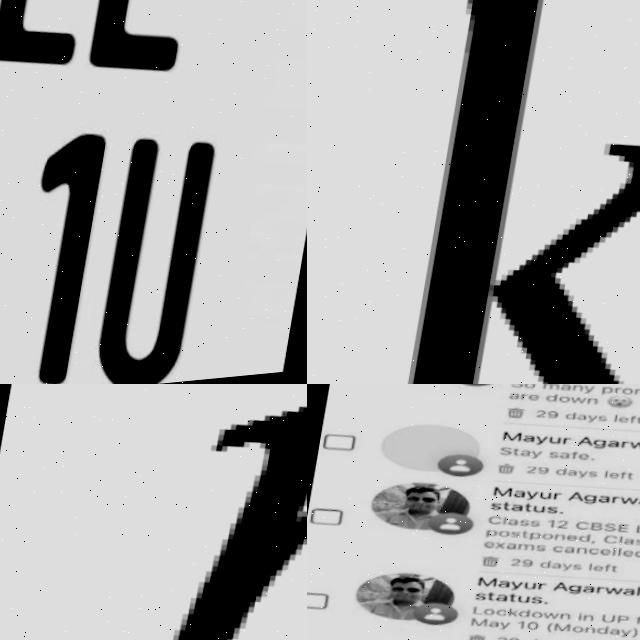0: (528, 624, 539, 634)
1: (6, 130, 116, 384), (546, 522, 556, 532), (517, 624, 526, 633)
2: (526, 468, 537, 478), (511, 561, 522, 571), (557, 523, 568, 533), (536, 414, 547, 422)
9: (548, 414, 559, 424), (539, 469, 550, 479), (523, 562, 534, 572)
E: (0, 0, 121, 79)
K: (330, 0, 640, 384)
L: (86, 0, 222, 94)
P: (179, 409, 307, 640)
U: (89, 134, 218, 384)
